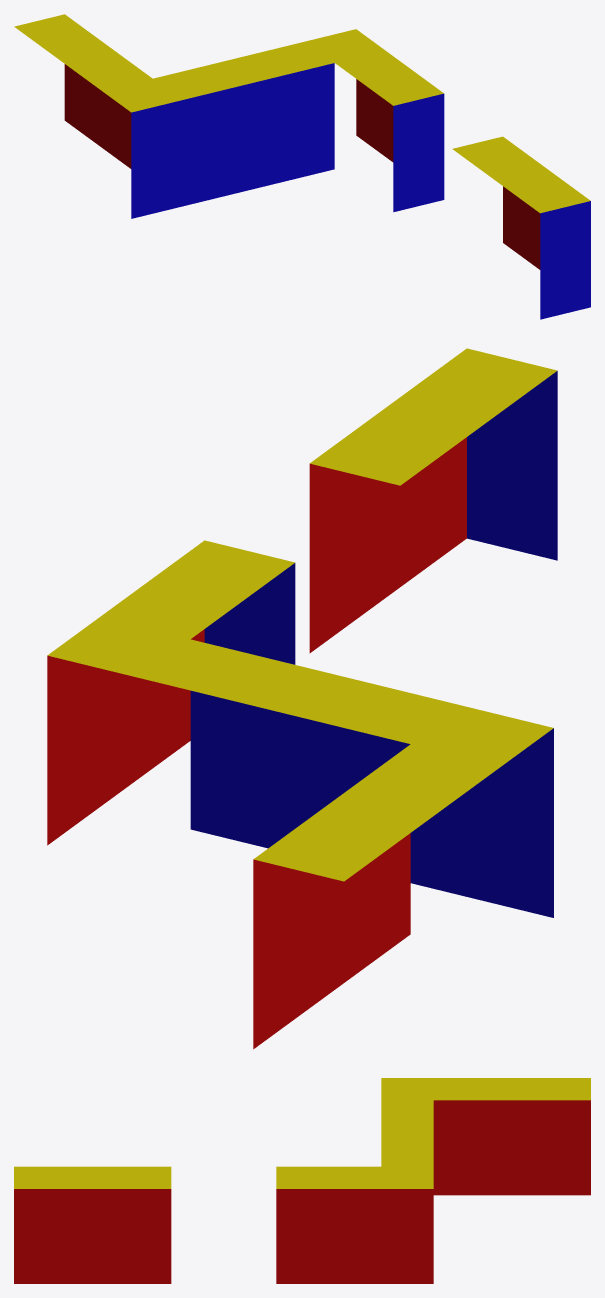
File: LevelSea.fbx
3 views of the same model, one above another, from view 1: azimuth 30°, elevation 25°; view 2: azimuth 150°, elevation 25°; view 3: azimuth 270°, elevation 25° (orthographic). The views are drawn at different scales.
Visible parts, largest first — view 1: LevelSea; view 2: LevelSea; view 3: LevelSea.
Boxes of the visible parts, x1,y1,x2,y2 form: LevelSea: (14,14,590,319); LevelSea: (47,348,557,1049); LevelSea: (14,1078,590,1283).
Bounding box in the file's own units: 500 × 200 × 1100.
